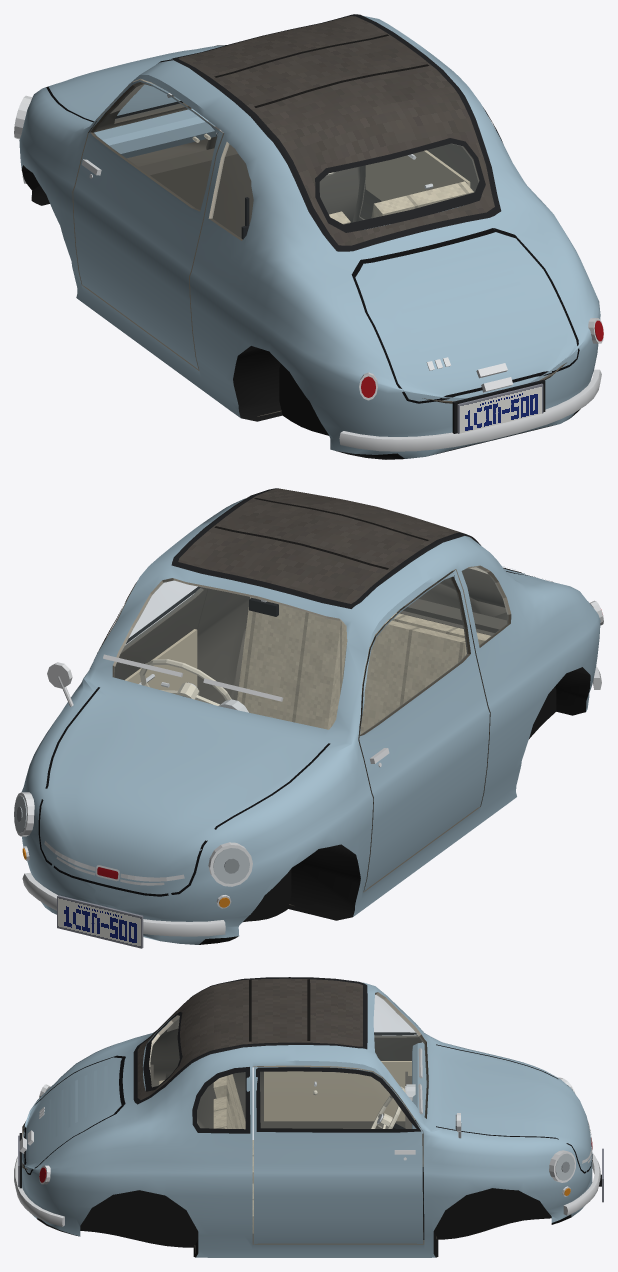
The model's file is nuova.glb.
The picture shows the model from 3 angles, top to bottom: view 1: azimuth 30°, elevation 25°; view 2: azimuth 150°, elevation 25°; view 3: azimuth 270°, elevation 25°; orthographic projection. The views are drawn at different scales.
Parts seen in each view (by area): view 1: Body, Door_L, Glass, Interior, Door_L_Glass, Door_R; view 2: Body, Glass, Interior, Door_L, Door_L_Glass, Door_R, Lights_Head, SteeringWheel; view 3: Body, Door_R, Door_L, Door_R_Glass, Glass, Interior, SteeringWheel.
Boxes of the visible parts, box(x1,y1,x2,y2) form: Body: box(14, 14, 603, 459); Door_L: box(73, 80, 223, 369); Glass: box(152, 84, 478, 239); Interior: box(94, 108, 473, 239); Door_L_Glass: box(93, 84, 216, 209); Door_R: box(360, 143, 478, 219); Body: box(14, 488, 603, 948); Glass: box(114, 567, 507, 728); Interior: box(183, 597, 506, 734); Door_L: box(358, 570, 489, 891); Door_L_Glass: box(360, 578, 467, 734); Door_R: box(94, 582, 207, 690); Lights_Head: box(14, 795, 249, 883); SteeringWheel: box(139, 659, 231, 705); Body: box(14, 977, 603, 1257); Door_R: box(253, 1066, 423, 1244); Door_L: box(257, 1032, 422, 1128); Door_R_Glass: box(260, 1072, 415, 1128); Glass: box(150, 994, 427, 1128); Interior: box(150, 1042, 426, 1242); SteeringWheel: box(371, 1086, 405, 1128).
Bounding box in the file's own units: 1.32 × 1.18 × 3.07.
25 materials, 5 textured.
